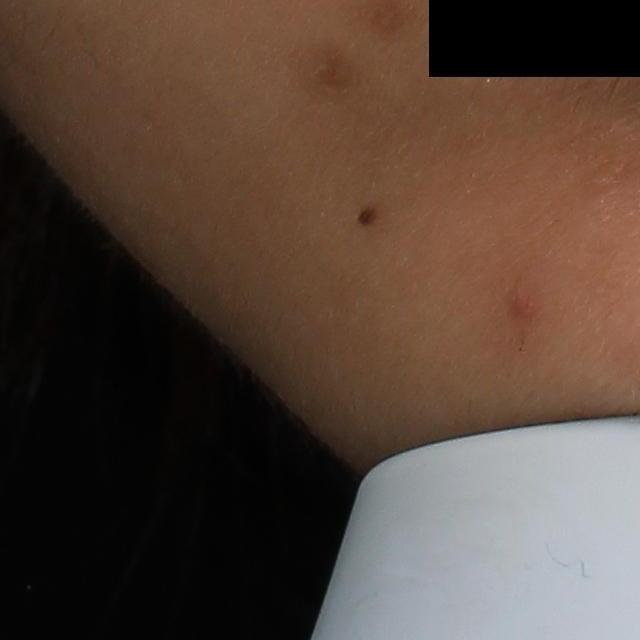nevus: (356, 205, 378, 225)
papule: (508, 287, 535, 322)
